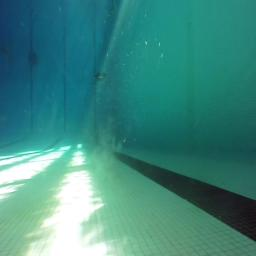Full: (95, 70, 108, 83)
